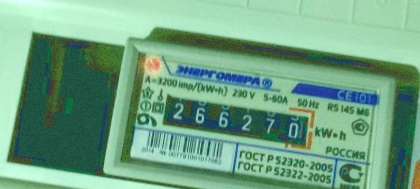0: (285, 118, 299, 140)
2: (170, 99, 187, 122), (239, 111, 254, 133)
6: (192, 104, 207, 126), (216, 108, 231, 128)
7: (262, 115, 276, 135)
screen: (147, 79, 327, 160)
